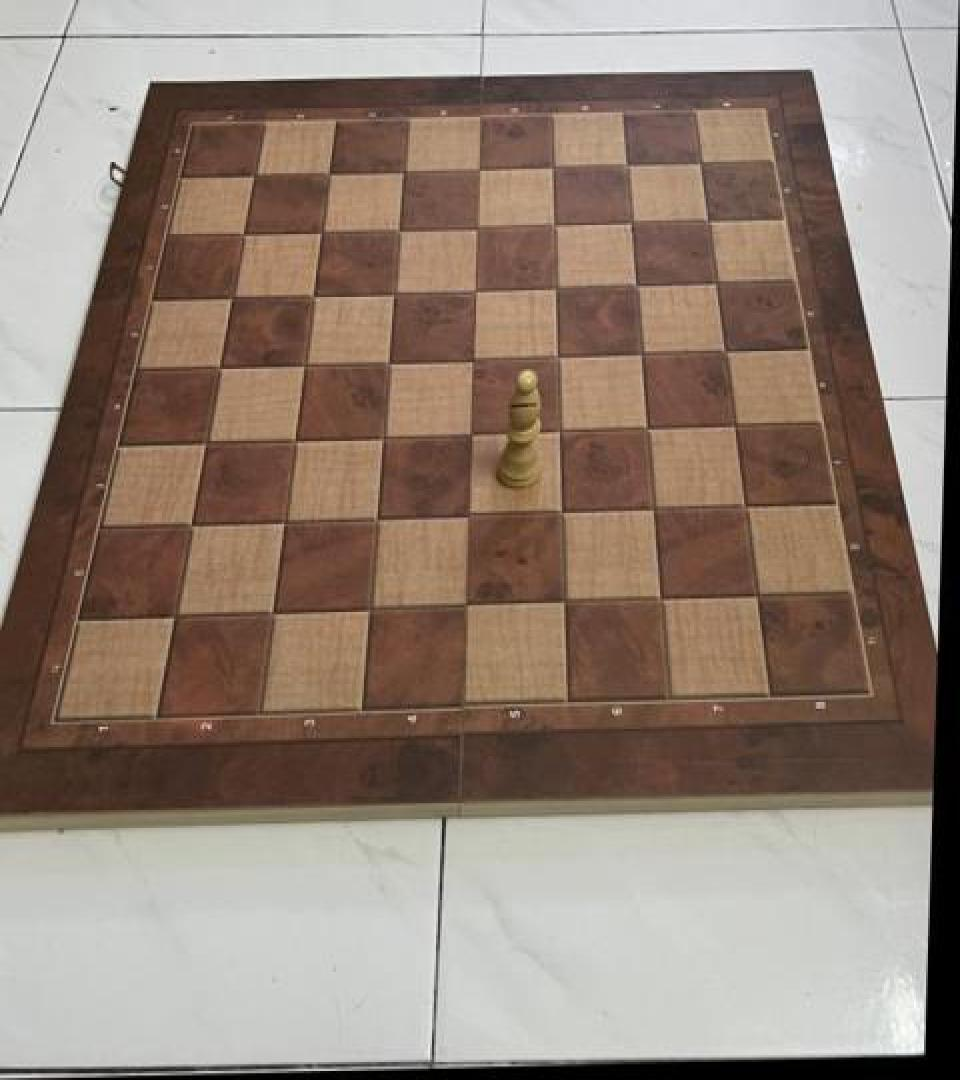xcorner: (614, 201, 648, 240), (378, 272, 412, 311), (362, 499, 396, 538), (683, 141, 717, 179), (609, 143, 643, 181), (535, 145, 569, 183), (461, 148, 495, 186), (386, 150, 420, 188), (311, 152, 345, 190), (236, 154, 270, 192), (691, 199, 725, 237), (537, 204, 571, 242), (460, 206, 494, 244), (382, 210, 416, 248), (304, 212, 338, 250), (226, 214, 260, 252), (699, 262, 733, 300), (619, 264, 653, 302), (539, 268, 573, 306), (458, 270, 492, 308), (297, 276, 331, 314), (216, 278, 250, 316), (707, 331, 741, 369), (624, 333, 658, 371), (541, 336, 575, 374), (457, 339, 491, 377), (373, 342, 407, 380), (288, 344, 322, 382), (204, 348, 238, 386), (717, 405, 751, 443), (630, 408, 664, 446), (543, 411, 577, 449), (455, 414, 489, 452), (368, 418, 402, 456), (279, 420, 313, 458), (191, 423, 225, 461), (727, 486, 761, 524), (636, 490, 670, 528), (545, 493, 579, 531), (454, 496, 488, 534), (270, 503, 304, 541), (177, 506, 211, 544), (739, 575, 773, 613), (643, 578, 677, 616), (548, 582, 582, 620), (452, 586, 486, 624), (355, 590, 389, 628), (259, 593, 293, 631), (162, 598, 196, 636)
